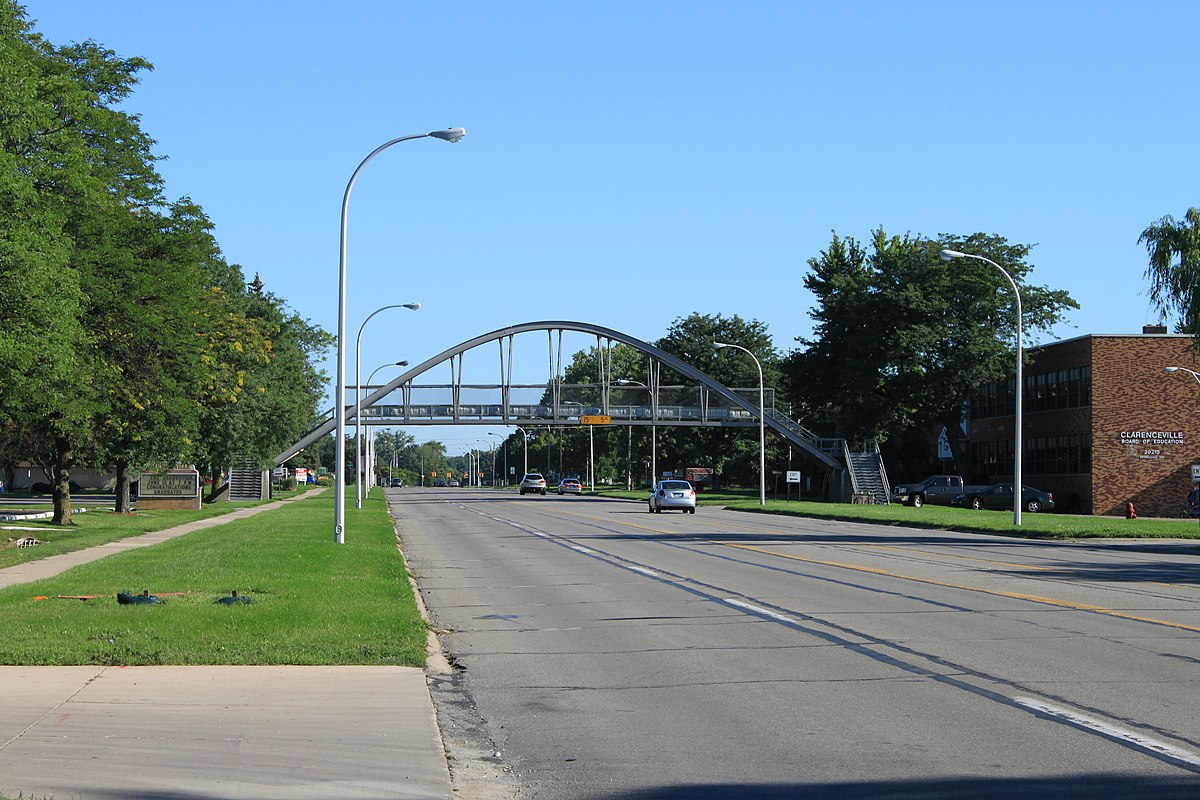bridge: (266, 317, 848, 505)
